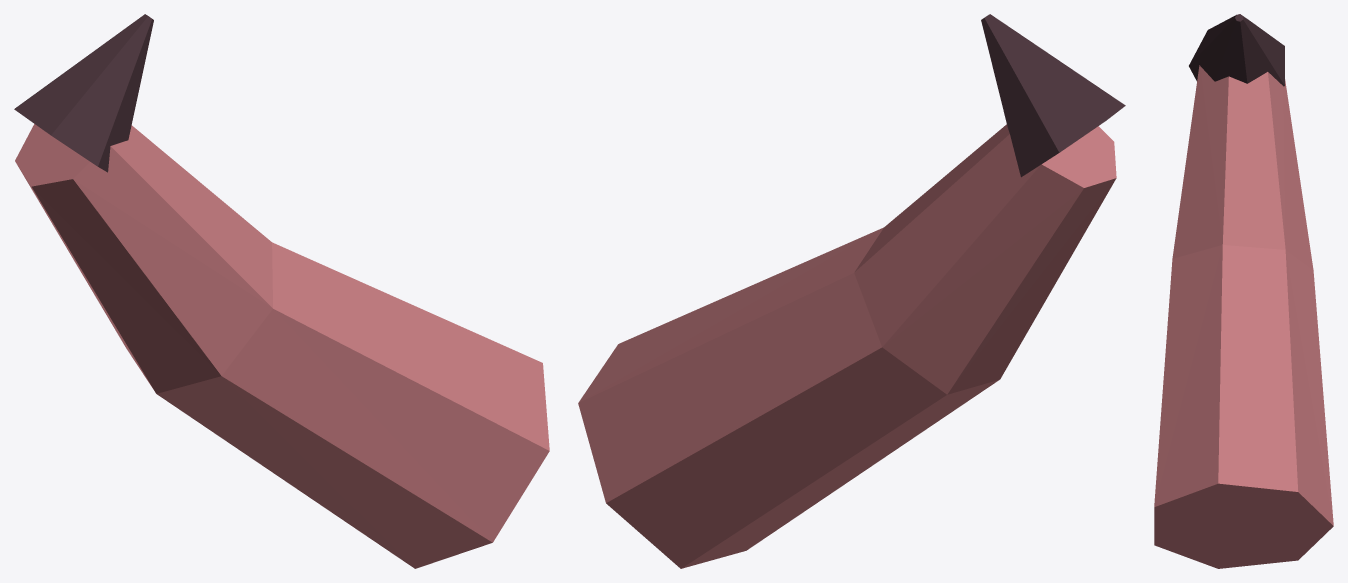
The model's file is dreadmeld_appendage_1.obj.
The picture shows the model from 3 angles, left to right: view 1: azimuth 30°, elevation 25°; view 2: azimuth 150°, elevation 25°; view 3: azimuth 270°, elevation 25°; orthographic projection. The views are drawn at different scales.
Visible parts, largest first — view 1: dreadmeld_appendage_1; view 2: dreadmeld_appendage_1; view 3: dreadmeld_appendage_1.
Part boxes in pixels (x1=…): dreadmeld_appendage_1: x1=14, y1=14, x2=549, y2=568; dreadmeld_appendage_1: x1=578, y1=14, x2=1125, y2=568; dreadmeld_appendage_1: x1=1154, y1=14, x2=1333, y2=568.
Size of the model in its own units: 0.9222 by 1.05 by 0.3726.
